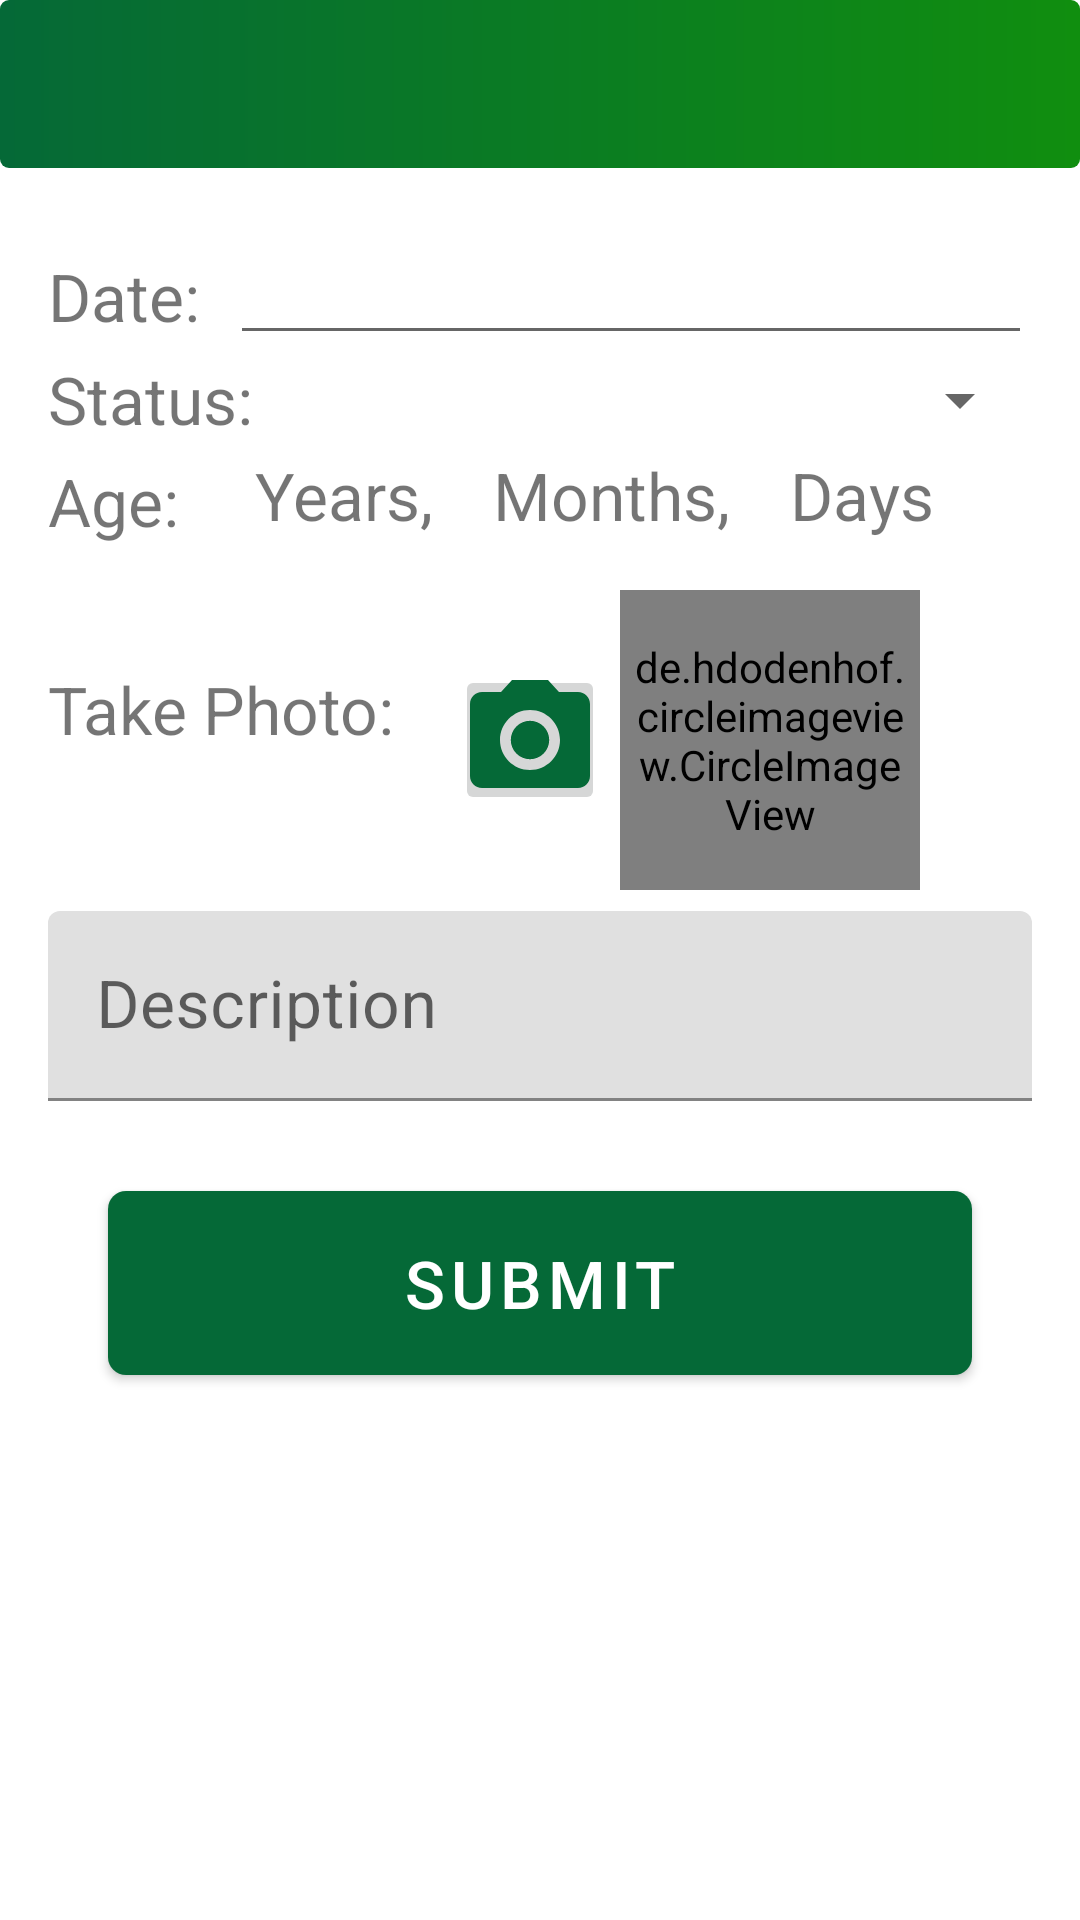

Named icons in this screenshot (1080 × 1920) and their bounding boxes, (x1, y1, x2, y2):
camera: (467, 680, 593, 797)
